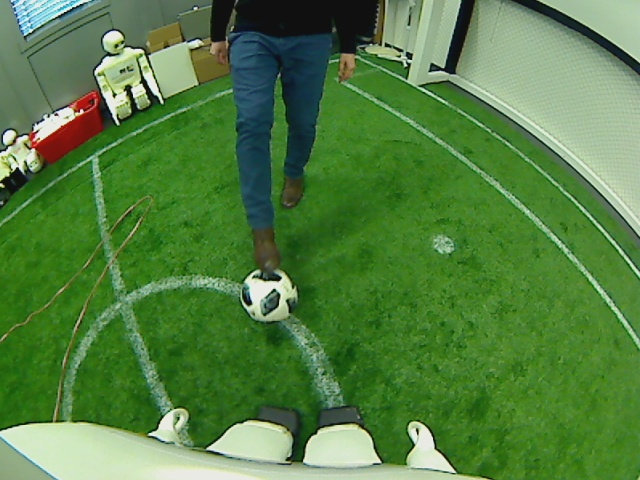ball: (239, 267, 295, 324)
